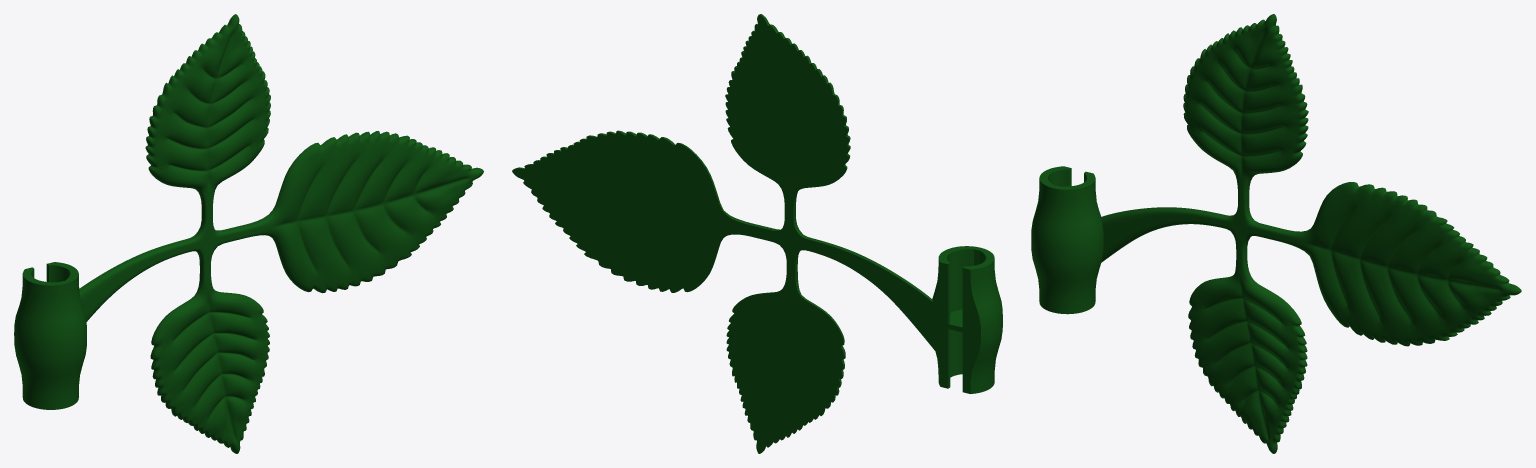
The model's file is c_rose_leaf_b_r.glb.
The picture shows the model from 3 angles, left to right: view 1: azimuth 30°, elevation 25°; view 2: azimuth 150°, elevation 25°; view 3: azimuth 330°, elevation 25°; orthographic projection.
Visible parts, largest first — view 1: rose_leaf_b_r, connector; view 2: rose_leaf_b_r, connector; view 3: rose_leaf_b_r, connector.
Boxes of the visible parts, x1,y1,x2,y2 form: rose_leaf_b_r: (79, 14, 483, 453); connector: (14, 262, 86, 409); rose_leaf_b_r: (512, 14, 934, 453); connector: (930, 246, 1002, 393); rose_leaf_b_r: (1101, 14, 1521, 453); connector: (1031, 166, 1103, 314).
Bounding box in the file's own units: 0.0999 × 0.0883 × 0.0107.
